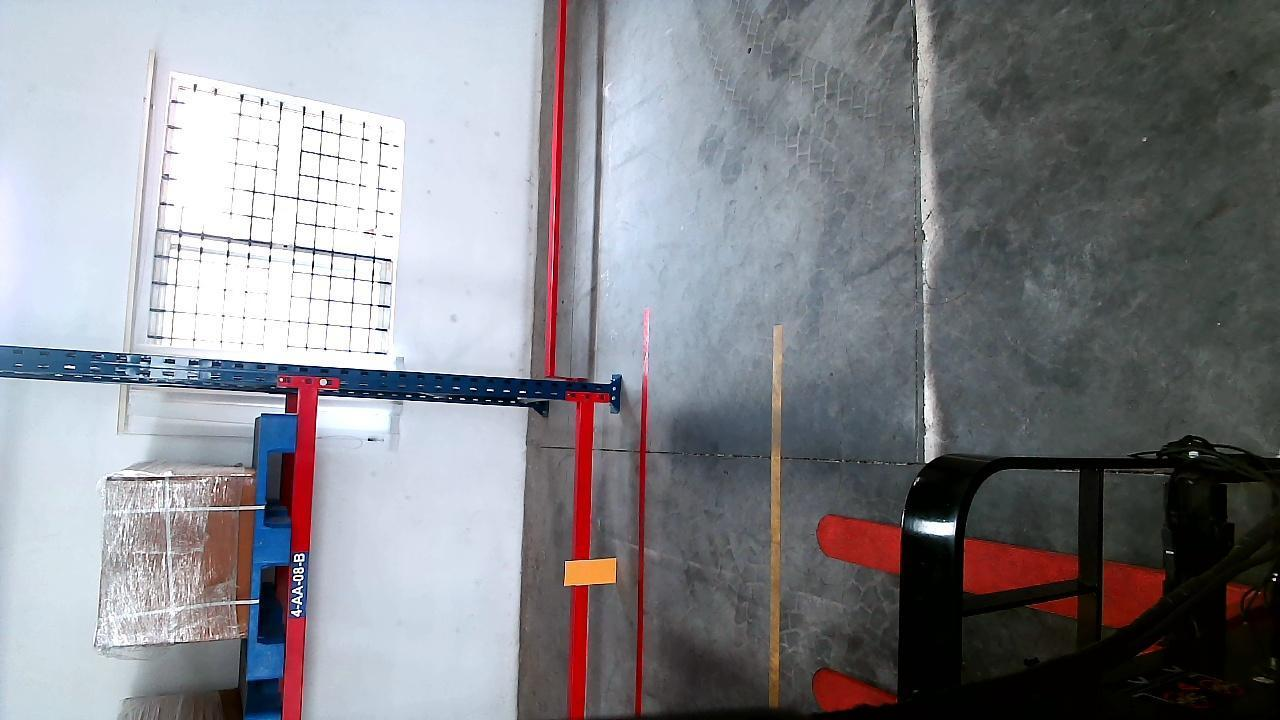h_rack: (285, 385, 320, 710), (571, 404, 595, 717)
orange_strip: (568, 557, 615, 587)
red_line: (632, 306, 652, 715)
small_pallet: (245, 410, 296, 698)
yellow_line: (765, 341, 786, 693)
